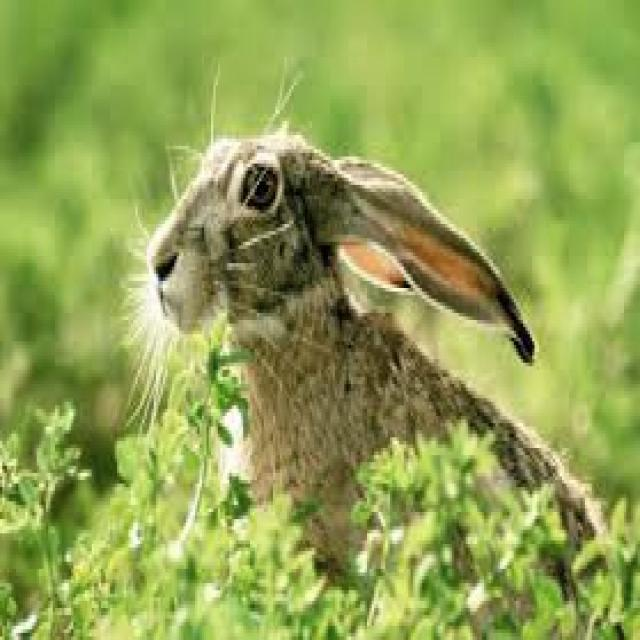hare: (140, 132, 599, 569)
